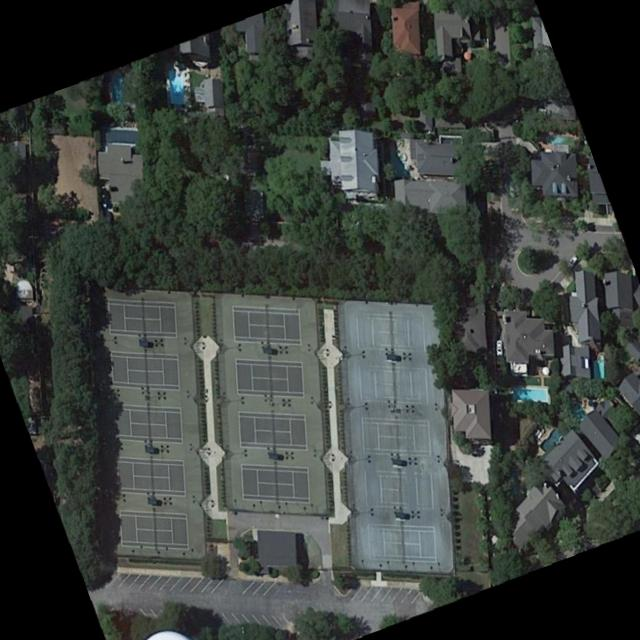small-vehicle: (495, 338, 503, 356)
